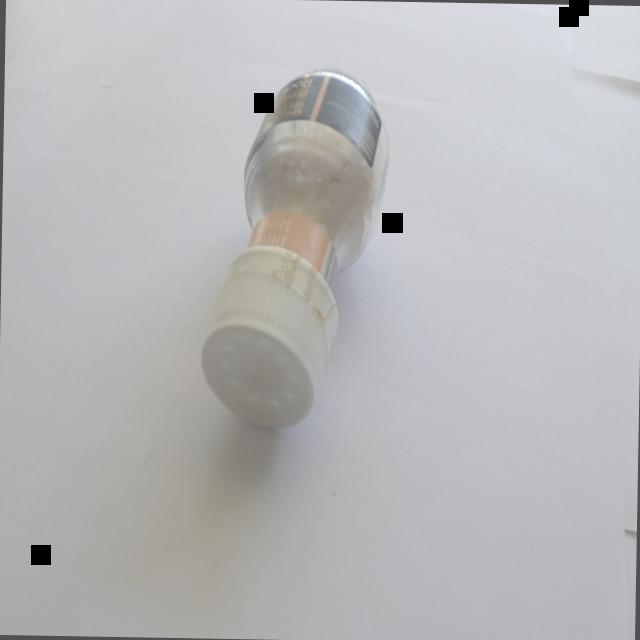Salt: (191, 56, 410, 456)
